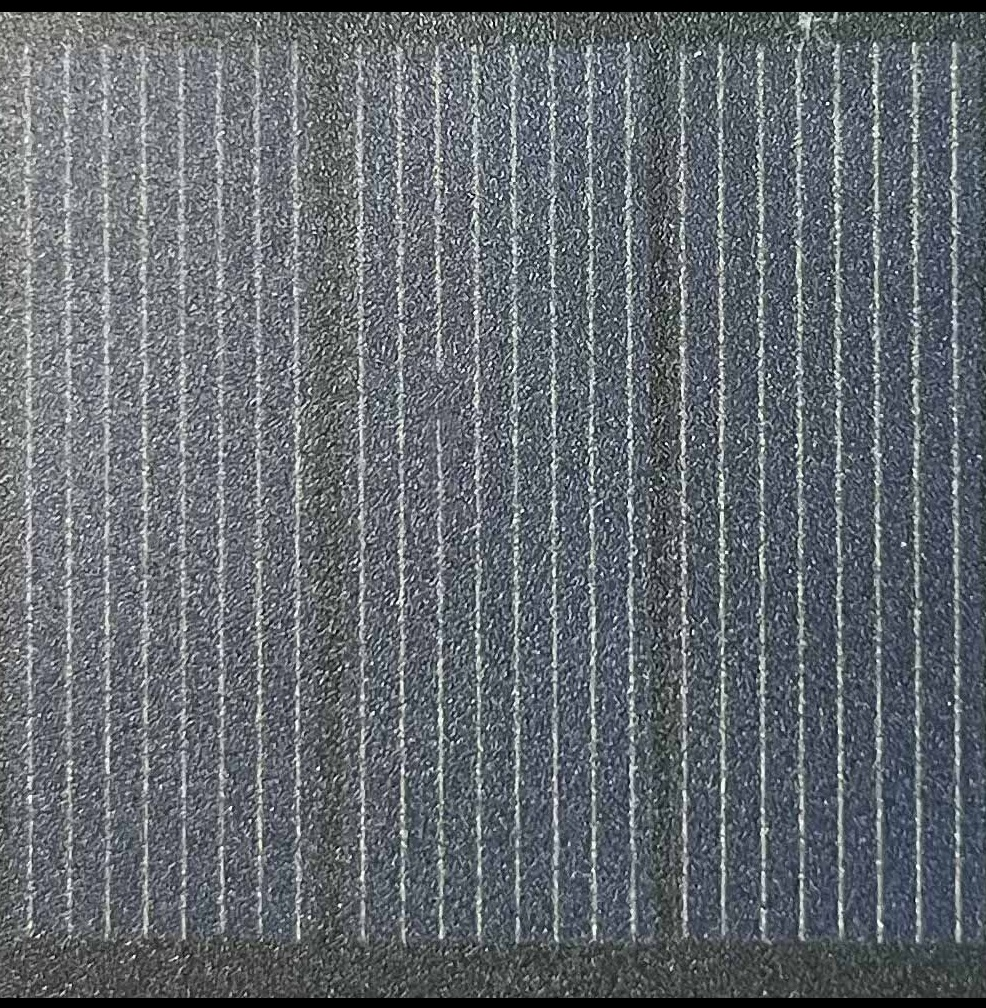Grid: (425, 357, 453, 431)
